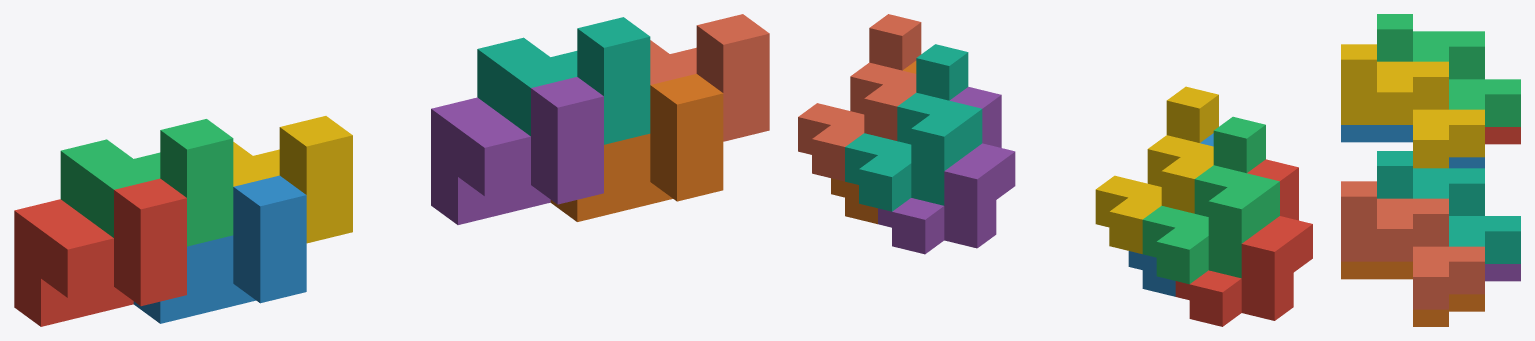
File: tiling.obj
3 views of the same model, side by side, from view 1: azimuth 30°, elevation 25°; view 2: azimuth 150°, elevation 25°; view 3: azimuth 270°, elevation 25° (orthographic). The views are drawn at different scales.
Parts seen in each view (by area): view 1: copy_1_domain_1, copy_1_domain_5, copy_1_domain_2, copy_1_domain_6, copy_1_domain_7, copy_1_domain_3, copy_1_domain_4, copy_1_domain_8; view 2: copy_1_domain_3, copy_1_domain_7, copy_1_domain_5, copy_1_domain_1, copy_1_domain_4, copy_1_domain_8, copy_1_domain_2, copy_1_domain_6; view 3: copy_1_domain_8, copy_1_domain_4, copy_1_domain_3, copy_1_domain_7, copy_1_domain_6, copy_1_domain_2, copy_1_domain_1, copy_1_domain_5.
Boxes of the visible parts, bbox=[...] form: copy_1_domain_1: bbox=[14, 178, 186, 326]; copy_1_domain_5: bbox=[431, 77, 603, 224]; copy_1_domain_2: bbox=[133, 175, 306, 323]; copy_1_domain_6: bbox=[550, 74, 723, 221]; copy_1_domain_7: bbox=[477, 17, 650, 144]; copy_1_domain_3: bbox=[60, 119, 233, 246]; copy_1_domain_4: bbox=[233, 116, 352, 243]; copy_1_domain_8: bbox=[650, 14, 769, 141]; copy_1_domain_3: bbox=[1142, 116, 1279, 284]; copy_1_domain_7: bbox=[845, 44, 982, 211]; copy_1_domain_5: bbox=[878, 87, 1015, 254]; copy_1_domain_1: bbox=[1175, 159, 1312, 326]; copy_1_domain_4: bbox=[1095, 86, 1218, 253]; copy_1_domain_8: bbox=[798, 14, 921, 181]; copy_1_domain_2: bbox=[1128, 133, 1213, 296]; copy_1_domain_6: bbox=[831, 61, 916, 224]; copy_1_domain_8: bbox=[1341, 181, 1484, 309]; copy_1_domain_4: bbox=[1341, 44, 1484, 168]; copy_1_domain_3: bbox=[1377, 14, 1520, 126]; copy_1_domain_7: bbox=[1377, 151, 1520, 263]; copy_1_domain_6: bbox=[1341, 261, 1484, 326]; copy_1_domain_2: bbox=[1341, 125, 1484, 168]; copy_1_domain_1: bbox=[1485, 127, 1520, 144]; copy_1_domain_5: bbox=[1485, 264, 1520, 281].
Bounding box in the file's own units: 15 × 4 × 5.
